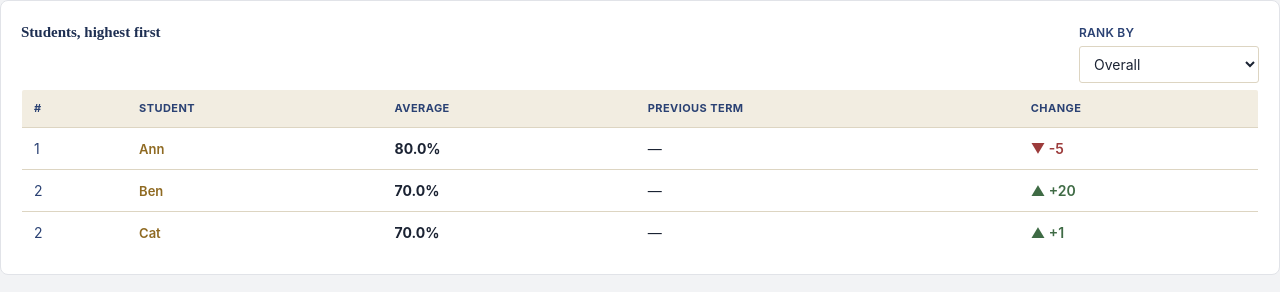
Scenario: student rankings › ranks by one subject, listing only the students who take it
Select "English" in the dropdown labelled "Rank by". click: x=1169, y=64
box: top-left (1079, 46), bottom-right (1259, 83)
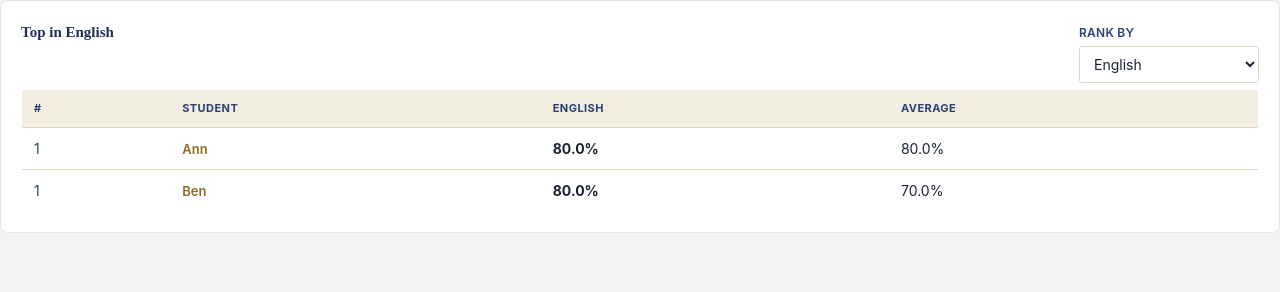
Check: the heading "Top in English" is shown, box top-left (21, 21), bottom-right (114, 44)
